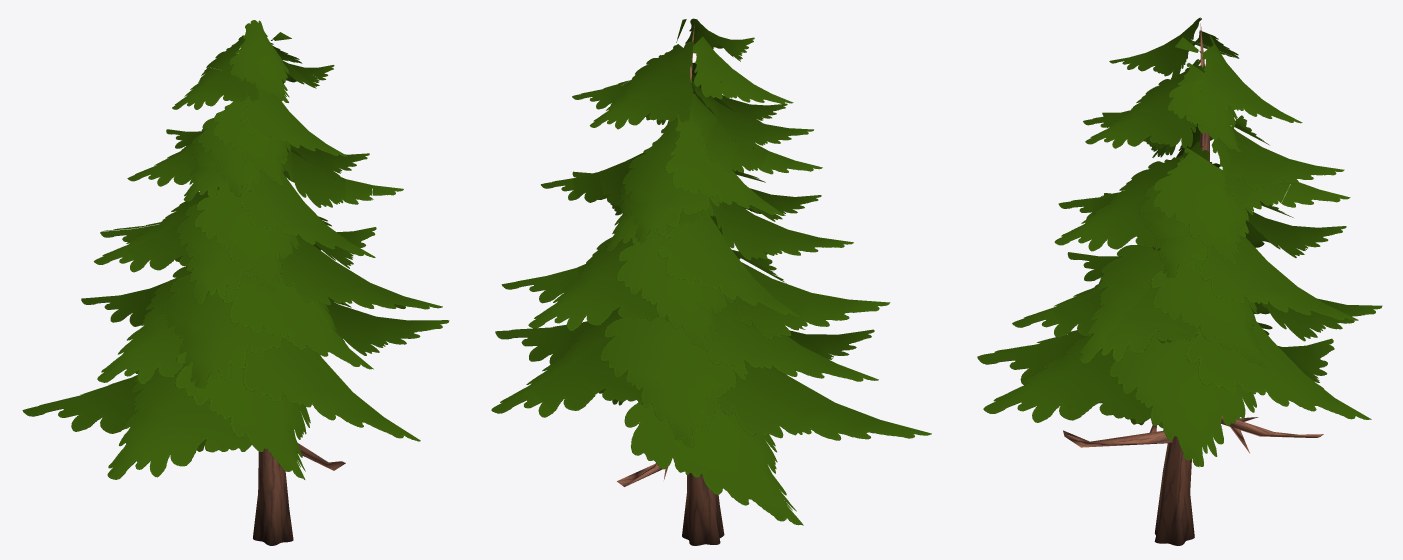
The model's file is mk-pine-2-lo.glb.
3 views of the same model, side by side, from view 1: azimuth 30°, elevation 25°; view 2: azimuth 150°, elevation 25°; view 3: azimuth 270°, elevation 25° (orthographic). The views are drawn at different scales.
Parts seen in each view (by area): view 1: Pine_2; view 2: Pine_2; view 3: Pine_2.
Boxes of the visible parts, x1=… form: Pine_2: x1=22, y1=20, x2=449, y2=545; Pine_2: x1=491, y1=18, x2=931, y2=545; Pine_2: x1=977, y1=17, x2=1382, y2=545.
Bounding box in the file's own units: 5.79 × 7.21 × 5.26.
2 materials, 2 textured.
